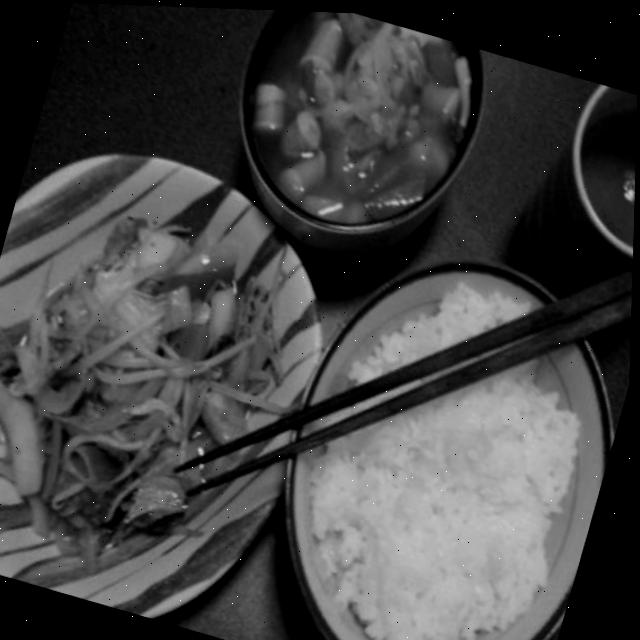米饭主食: (241, 191, 636, 640)
